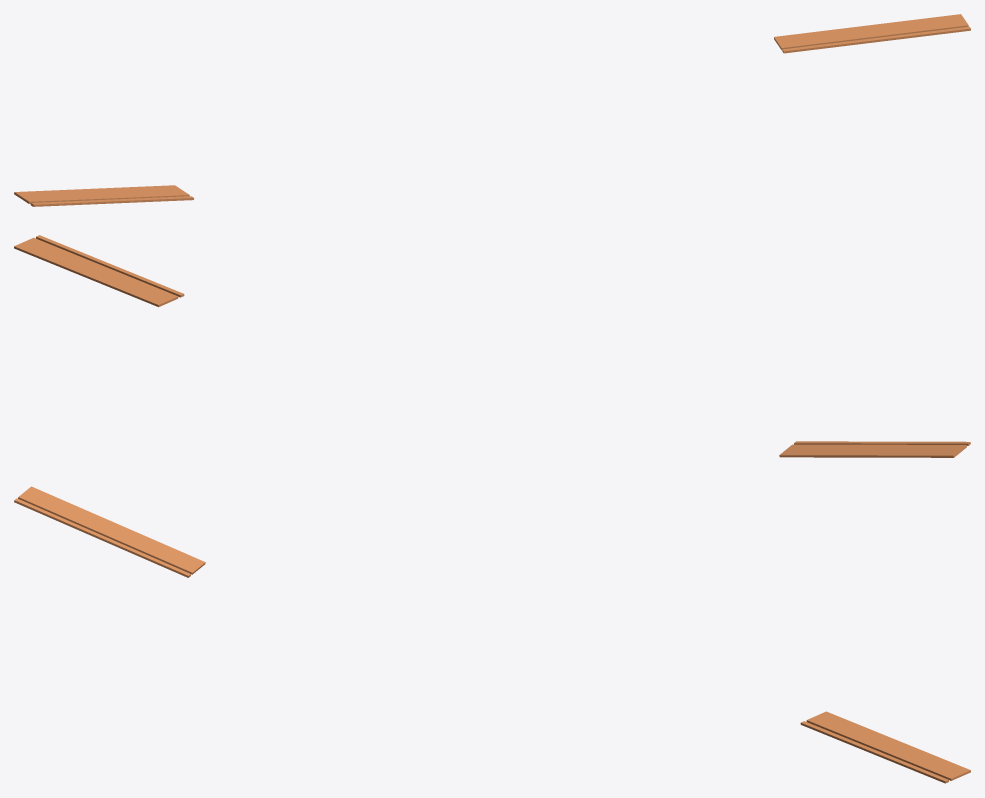
File: ramps.fbx
3 renders of one model, top to bottom at view 1: azimuth 30°, elevation 25°; view 2: azimuth 150°, elevation 25°; view 3: azimuth 330°, elevation 25°, orthographic. The views are drawn at different scales.
Parts seen in each view (by area): view 1: ramp, ramp_2.001; view 2: ramp, ramp_2.001; view 3: ramp_2.001, ramp.
Boxes of the visible parts, x1,y1,x2,y2 form: ramp: (774,14,970,53); ramp_2.001: (14,185,194,206); ramp: (14,235,184,307); ramp_2.001: (779,441,970,457); ramp_2.001: (14,486,205,577); ramp: (800,711,970,783).
Size of the model in its own units: 12112 by 481 by 920.
